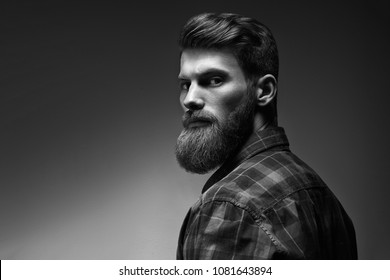NoMask: (175, 66, 237, 149)
